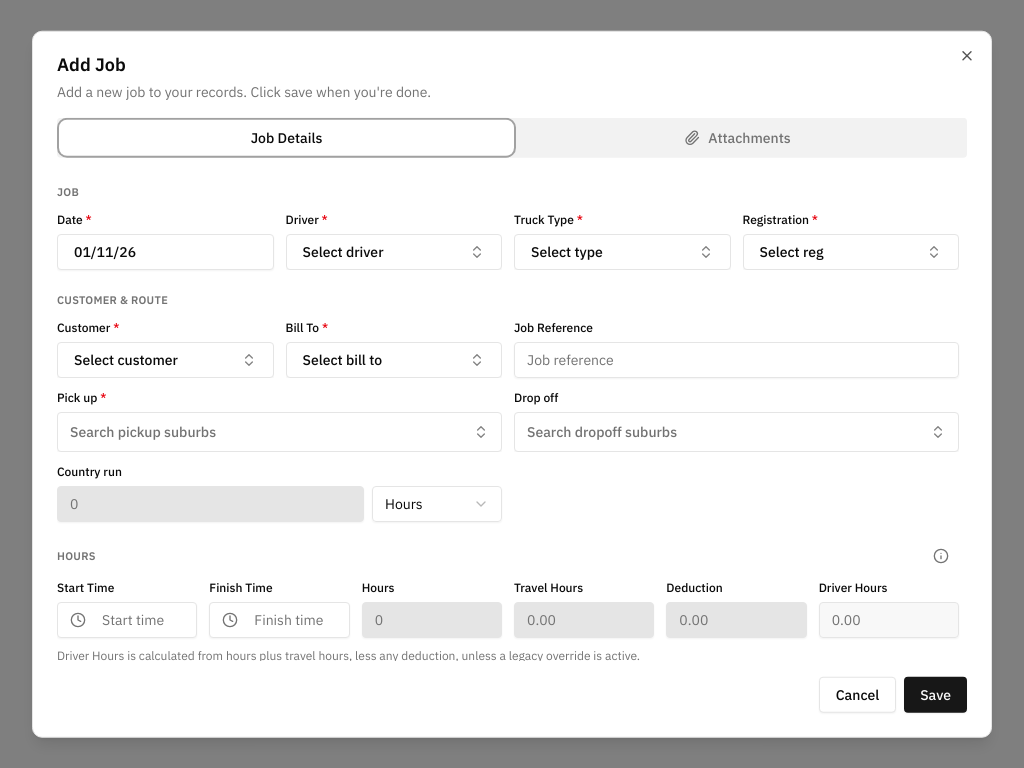
Test: JobForm Staged Files › Rendering - new job (job is null) › renders the staging drop zone when job is null
The width and height of the screenshot is (1024, 768).
Expected: the heading "Add Job" is shown, top-left (57, 53), bottom-right (126, 76)
// Navigate to Attachments tab
Click the tab "Attachments" at x=738, y=138, box top-left (512, 122), bottom-right (963, 154)
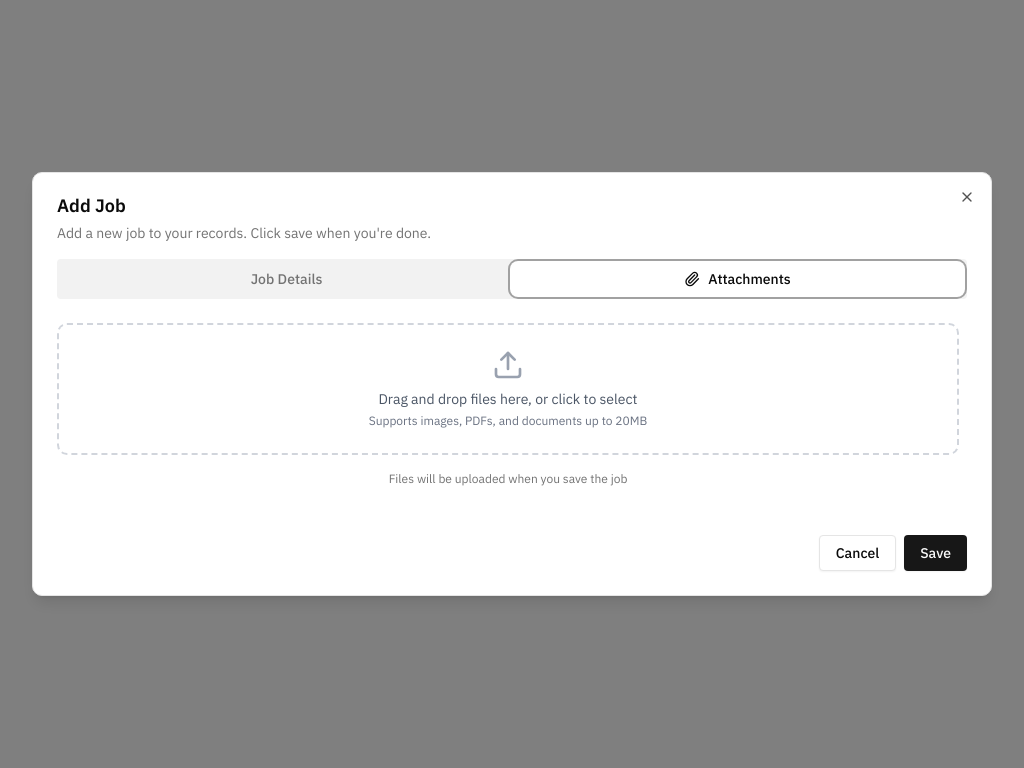
Expected: the text "Drag and drop files here, or click to select" is shown, top-left (378, 390), bottom-right (638, 408)
